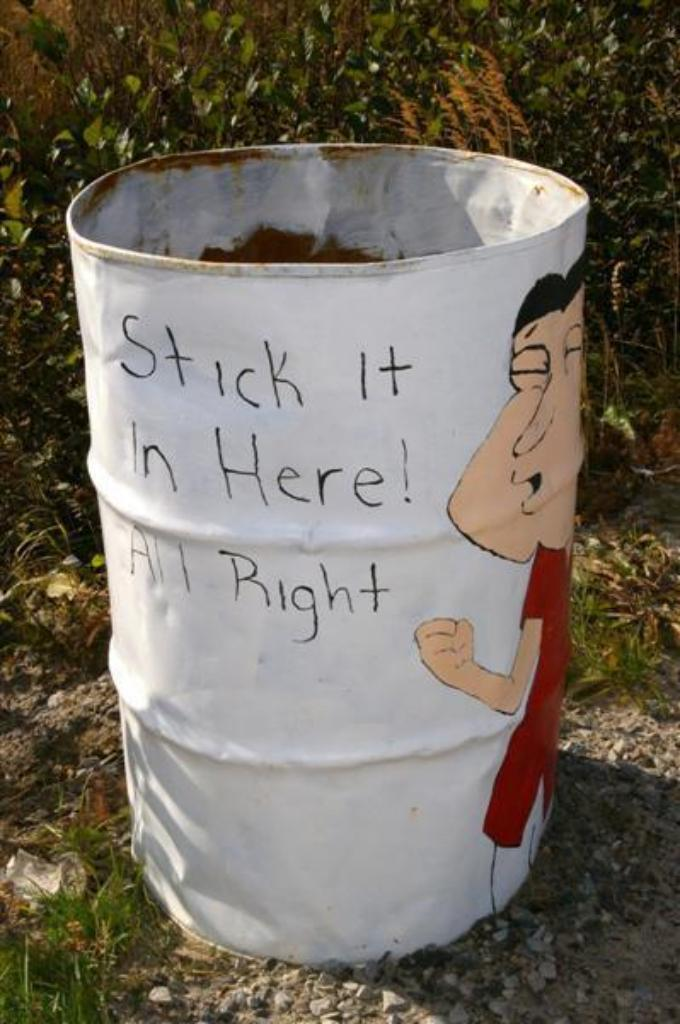dustbin: (77, 145, 613, 960)
